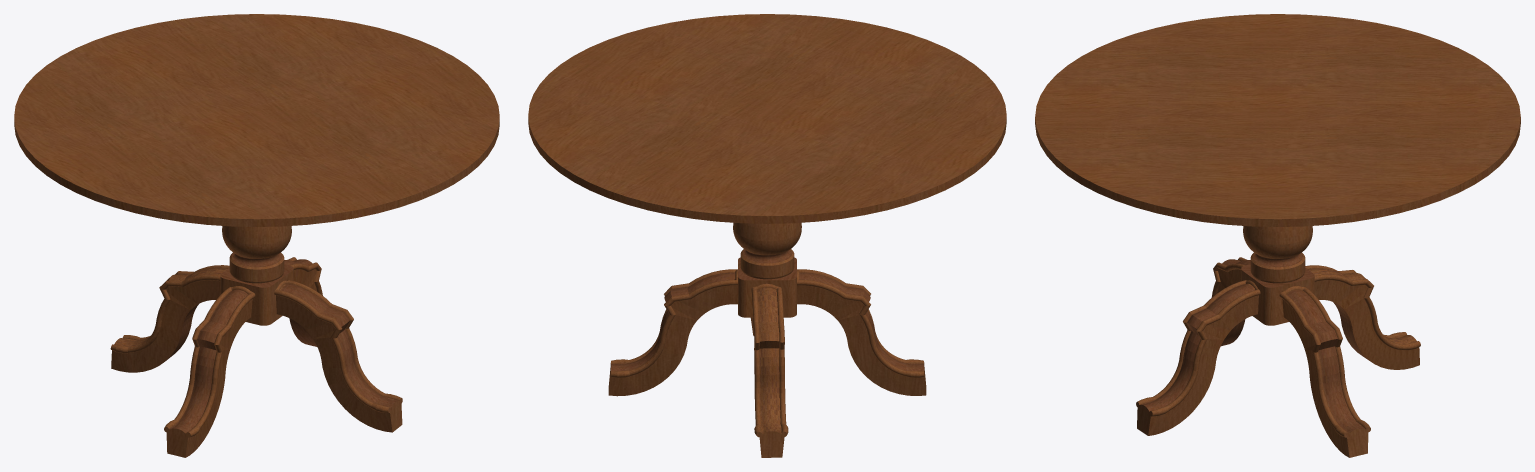
File: round_table.glb
3 views of the same model, side by side, from view 1: azimuth 30°, elevation 25°; view 2: azimuth 150°, elevation 25°; view 3: azimuth 270°, elevation 25° (orthographic).
Visible parts, largest first — view 1: Mesh2_Wood_Veneer_01_0, Model; view 2: Mesh2_Wood_Veneer_01_0, Model; view 3: Mesh2_Wood_Veneer_01_0, Model.
Part boxes in pixels (x1,y1,x2,y2): Mesh2_Wood_Veneer_01_0: (14,14,499,457); Model: (114,253,399,433); Mesh2_Wood_Veneer_01_0: (528,14,1006,457); Model: (611,249,923,433); Mesh2_Wood_Veneer_01_0: (1035,14,1520,457); Model: (1140,253,1416,433).
Size of the model in its own units: 213 by 136 by 213.
2 materials, 2 textured.
